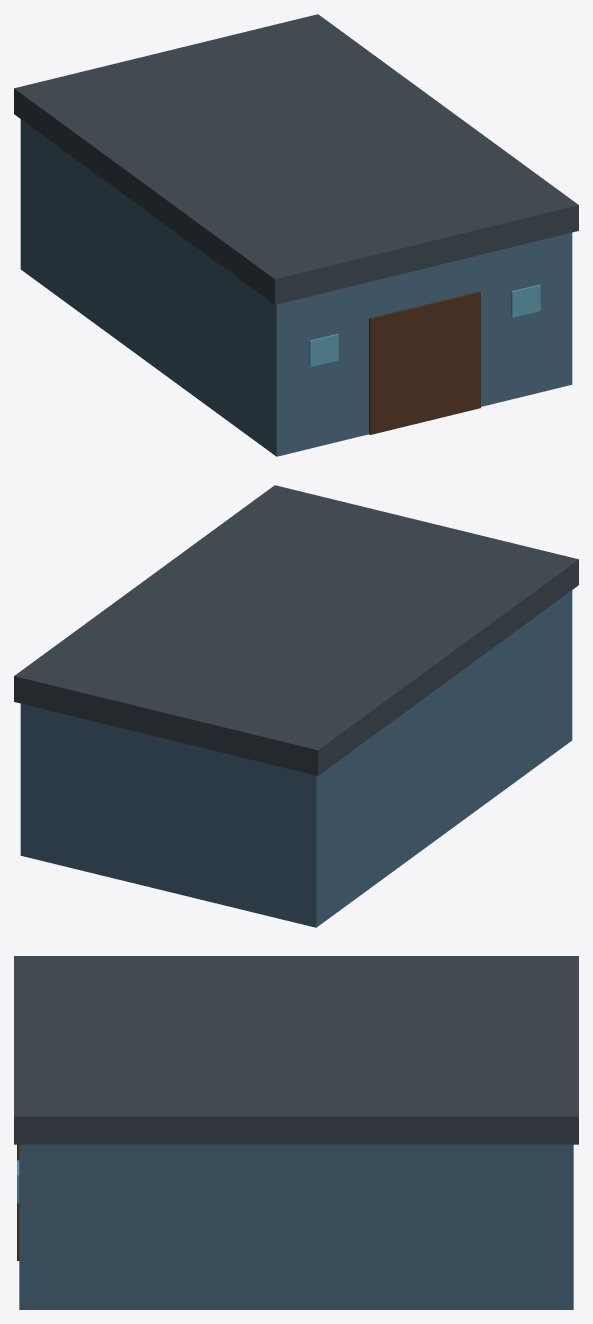
Rendered from warehouse.obj.
3 views of the same model, one above another, from view 1: azimuth 30°, elevation 25°; view 2: azimuth 150°, elevation 25°; view 3: azimuth 270°, elevation 25° (orthographic). The views are drawn at different scales.
Visible parts, largest first — view 1: Cube; view 2: Cube; view 3: Cube.
Boxes of the visible parts, x1,y1,x2,y2 form: Cube: (14,14,578,456); Cube: (14,485,578,927); Cube: (14,956,578,1309).
Size of the model in its own units: 12.35 by 7 by 18.35.
